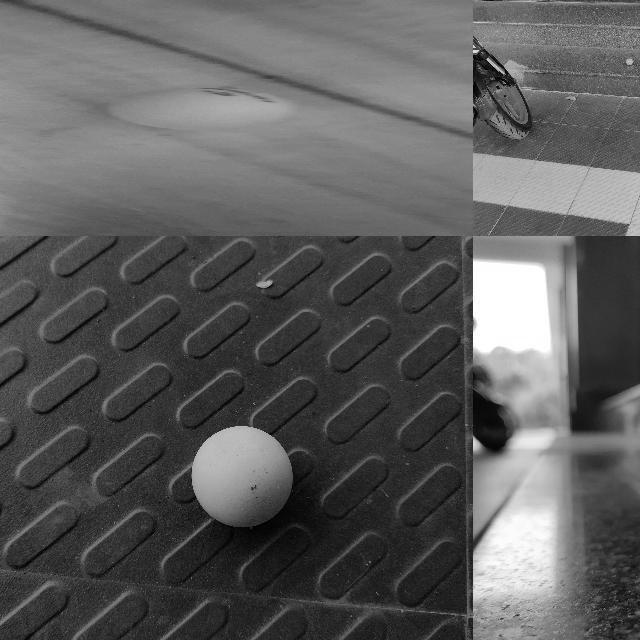ping-pong-ball: (188, 426, 290, 526), (106, 88, 294, 130), (625, 57, 633, 65)
